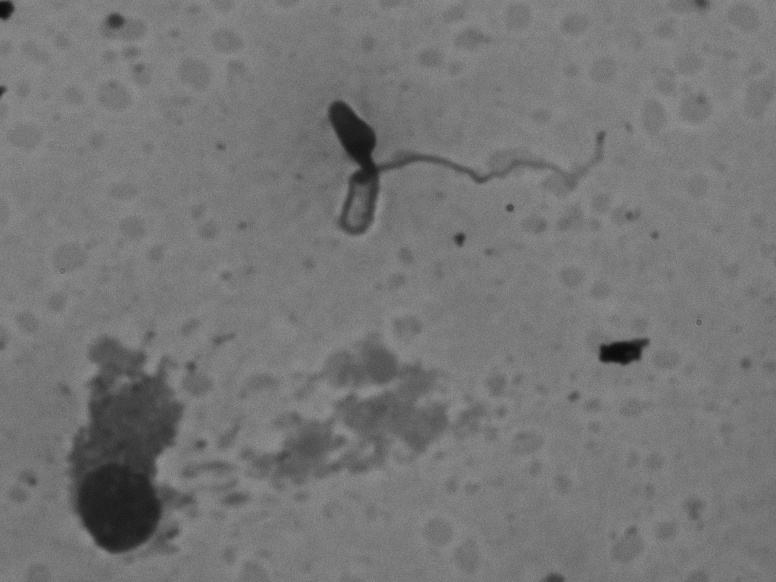Abnormal: (296, 82, 641, 280)
